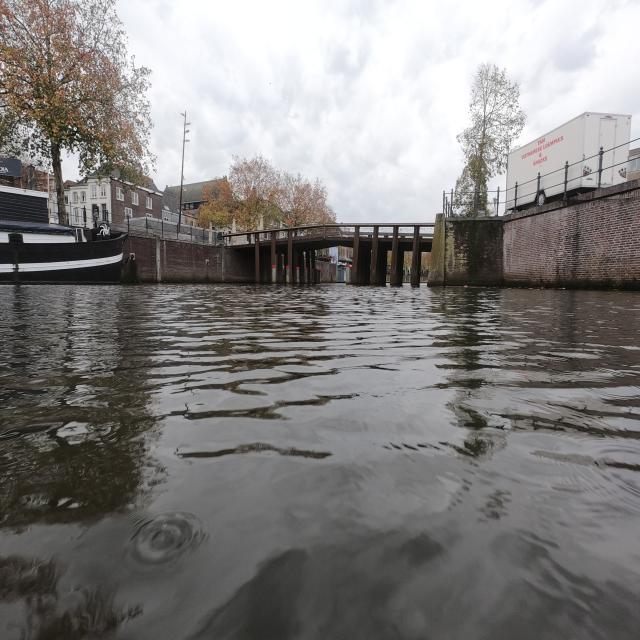boat: (0, 221, 126, 283)
sky: (120, 4, 638, 222)
tree: (0, 2, 156, 194), (200, 152, 348, 246)
wall: (432, 176, 638, 288), (160, 236, 256, 284), (130, 236, 162, 280)
water: (14, 290, 634, 634)
